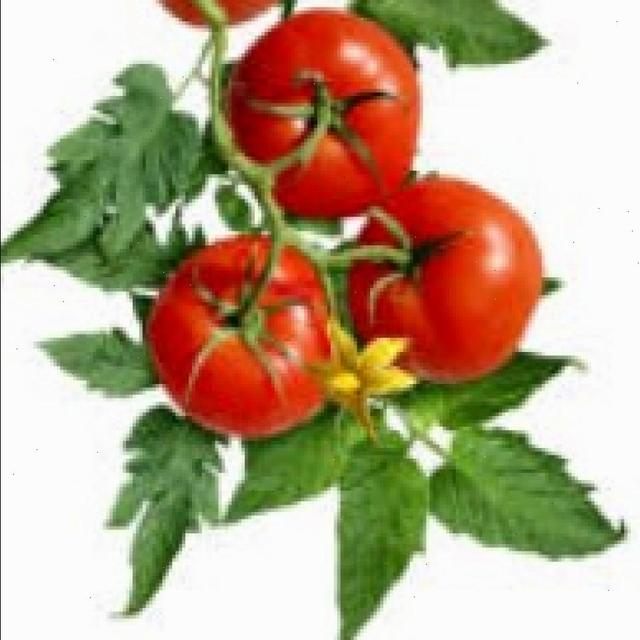Healthy Fruit: (123, 72, 301, 223)
